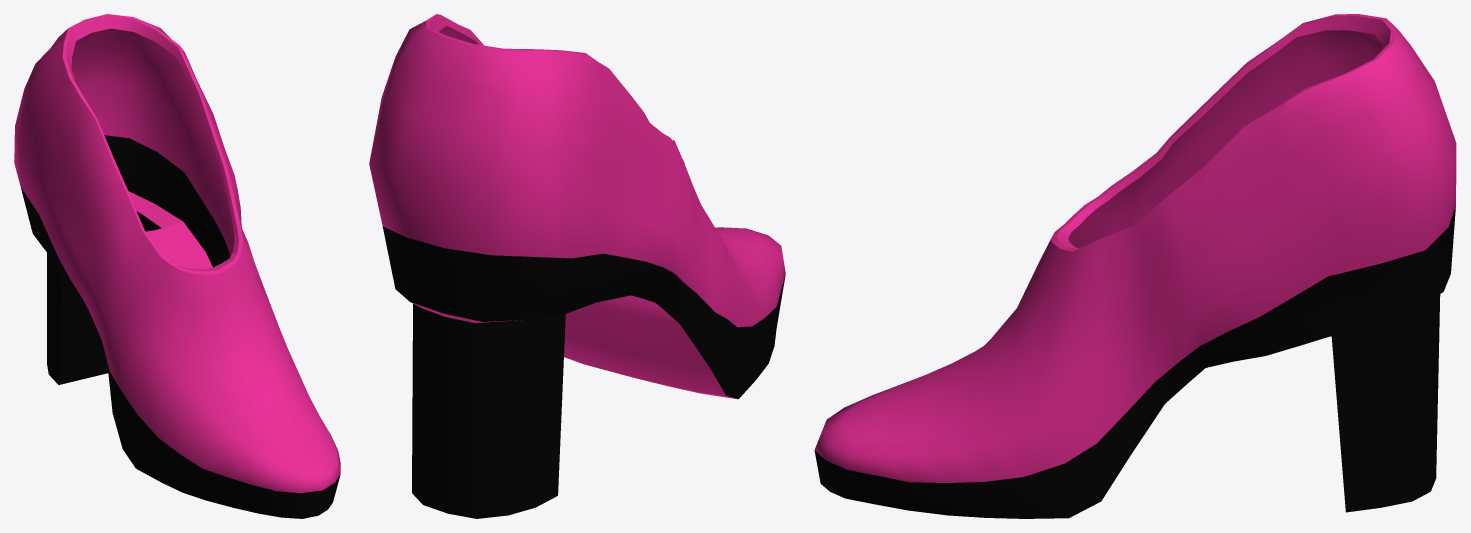
The model's file is sandle.fbx.
3 renders of one model, left to right at view 1: azimuth 30°, elevation 25°; view 2: azimuth 150°, elevation 25°; view 3: azimuth 270°, elevation 25°, orthographic. The views are drawn at different scales.
Visible parts, largest first — view 1: Dancer1_Shoe_R__3356_Dancer1_Shoe_R_2; view 2: Dancer1_Shoe_R__3356_Dancer1_Shoe_R_2; view 3: Dancer1_Shoe_R__3356_Dancer1_Shoe_R_2.
Part boxes in pixels (x1,y1,x2,y2): Dancer1_Shoe_R__3356_Dancer1_Shoe_R_2: [14, 14, 340, 518]; Dancer1_Shoe_R__3356_Dancer1_Shoe_R_2: [369, 14, 785, 518]; Dancer1_Shoe_R__3356_Dancer1_Shoe_R_2: [814, 14, 1456, 518].
Bounding box in the file's own units: 10.89 × 22.27 × 28.59.
